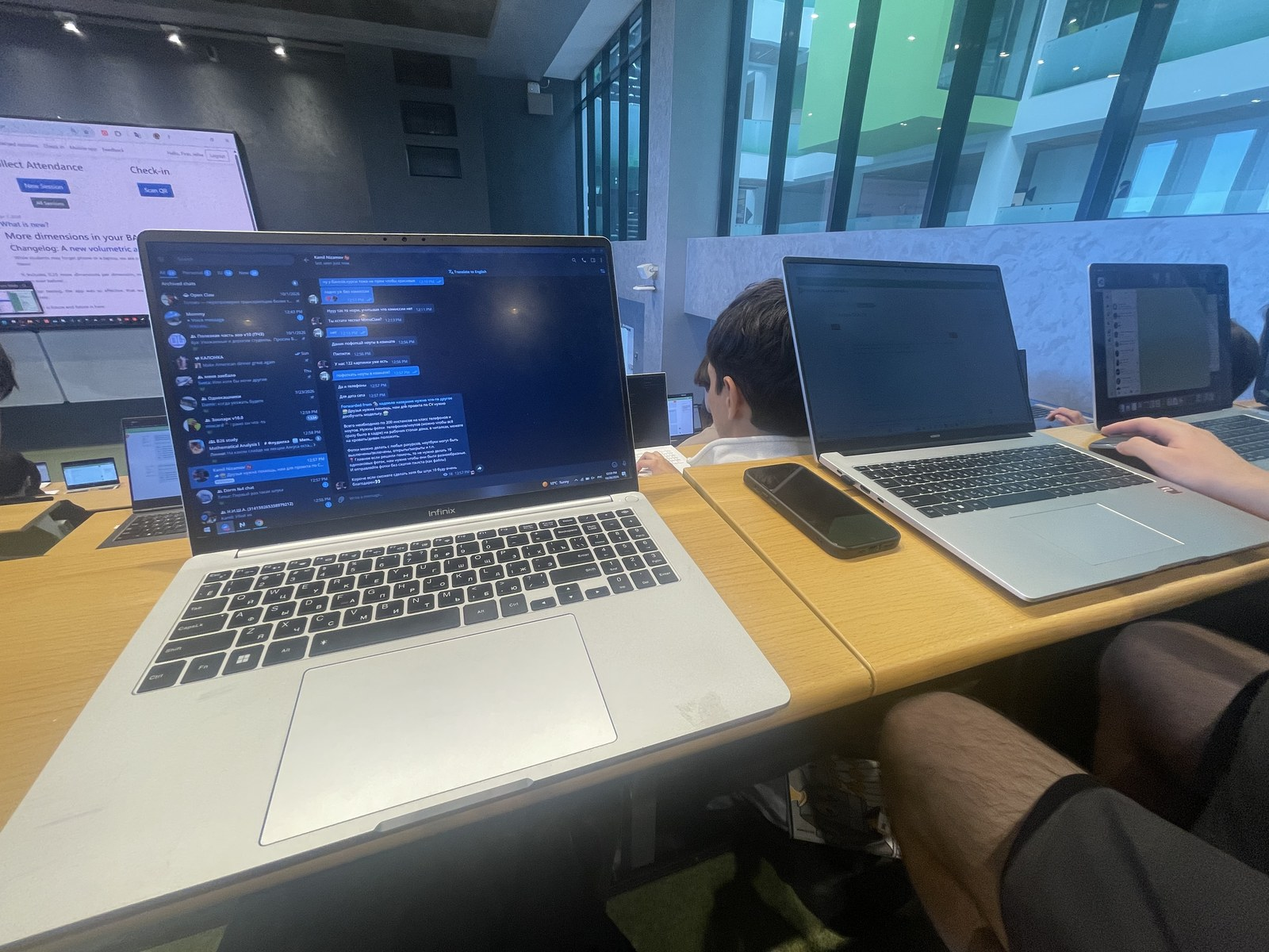cell phone: (743, 461, 901, 560)
laptop: (1, 229, 792, 949), (781, 255, 1268, 603), (1088, 261, 1268, 471), (96, 413, 190, 548), (59, 462, 120, 490)
